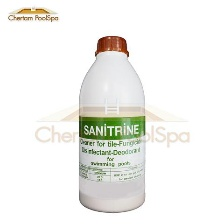cleaning_solution: (74, 33, 150, 214)
